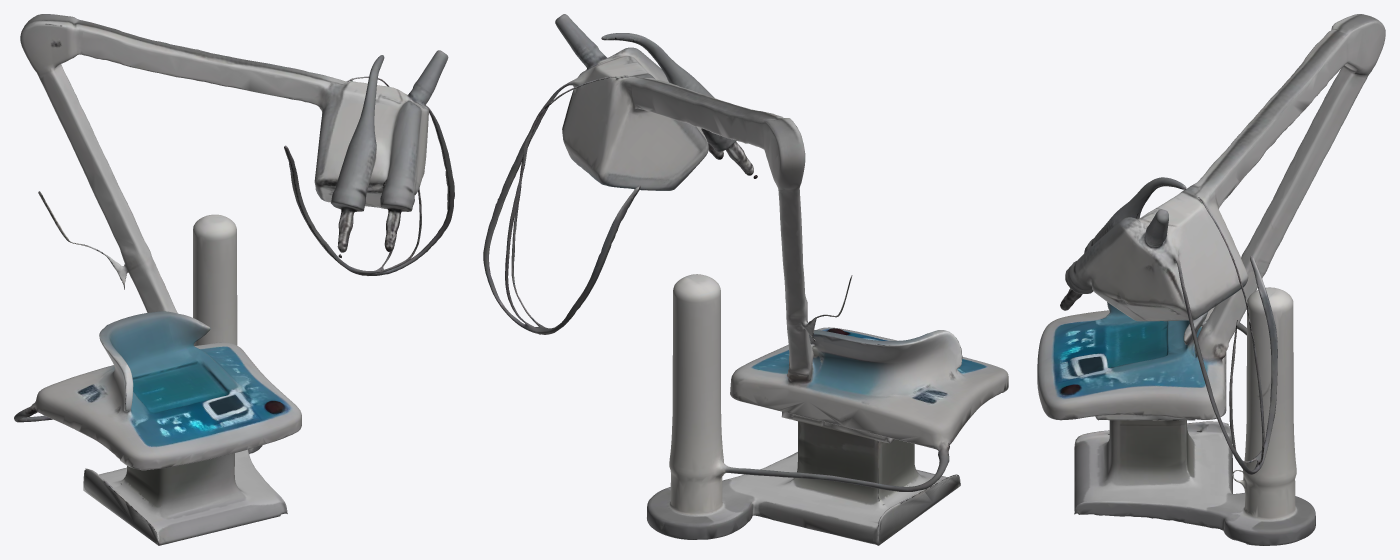
File: vet_equip_dental_unit.glb
3 renders of one model, left to right at view 1: azimuth 30°, elevation 25°; view 2: azimuth 150°, elevation 25°; view 3: azimuth 270°, elevation 25°, orthographic. The views are drawn at different scales.
Parts seen in each view (by area): view 1: model; view 2: model; view 3: model.
Boxes of the visible parts, x1,y1,x2,y2 form: model: (14, 14, 454, 545); model: (483, 14, 1008, 545); model: (1037, 14, 1385, 545).
Size of the model in its own units: 1.9 by 1.79 by 1.27.
Materials: 1 (1 with a texture image).
